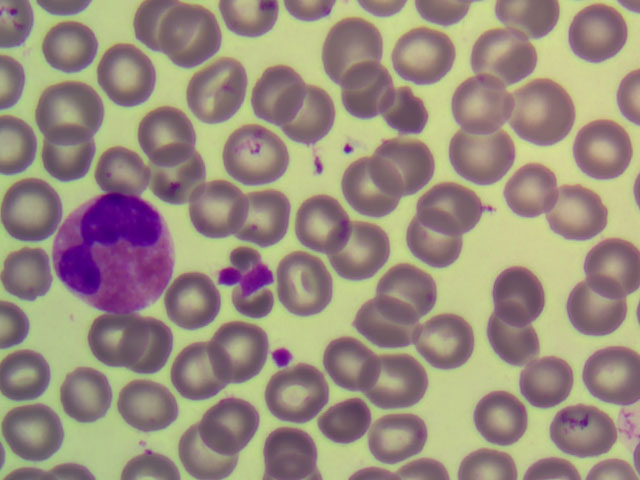Platelets: (245, 270, 267, 292), (270, 345, 289, 366), (219, 269, 238, 282)
RBC: (175, 423, 232, 480), (263, 423, 320, 480), (38, 15, 95, 71), (99, 48, 156, 104), (37, 84, 94, 140), (40, 128, 97, 184), (3, 180, 60, 236), (3, 404, 60, 460), (55, 371, 112, 427), (79, 314, 136, 370), (118, 318, 175, 374), (164, 270, 221, 326), (168, 342, 225, 398), (111, 378, 168, 434), (203, 398, 260, 454), (215, 319, 272, 375), (269, 366, 326, 422), (304, 395, 361, 451), (370, 404, 427, 460), (365, 352, 422, 408), (329, 336, 386, 392), (351, 305, 408, 361), (376, 255, 433, 311), (283, 255, 340, 311), (285, 197, 342, 253), (334, 224, 391, 280), (230, 185, 287, 241), (191, 179, 248, 235), (151, 154, 208, 210), (138, 110, 195, 166), (94, 140, 151, 196), (182, 66, 239, 122), (165, 12, 222, 68), (139, 3, 196, 59), (247, 67, 304, 123), (287, 97, 344, 153), (322, 14, 379, 70), (336, 64, 393, 120), (373, 83, 430, 139), (383, 136, 440, 192), (342, 159, 399, 215), (409, 211, 466, 267), (426, 172, 483, 228), (450, 129, 507, 185), (451, 73, 508, 129), (473, 26, 530, 82), (389, 27, 446, 83), (509, 76, 566, 132), (576, 120, 633, 176), (553, 185, 610, 241), (505, 159, 562, 215), (488, 259, 545, 315), (482, 317, 539, 373), (512, 343, 569, 399), (481, 392, 538, 448), (557, 406, 614, 462), (583, 340, 640, 396), (564, 282, 621, 338), (583, 238, 640, 294), (1, 243, 57, 299), (1, 347, 57, 403), (565, 1, 622, 56)
WBC: (55, 197, 169, 315)
